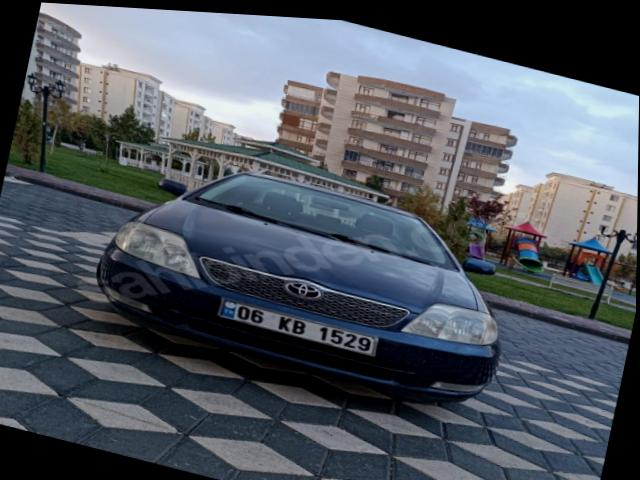plaka: (217, 298, 375, 355)
